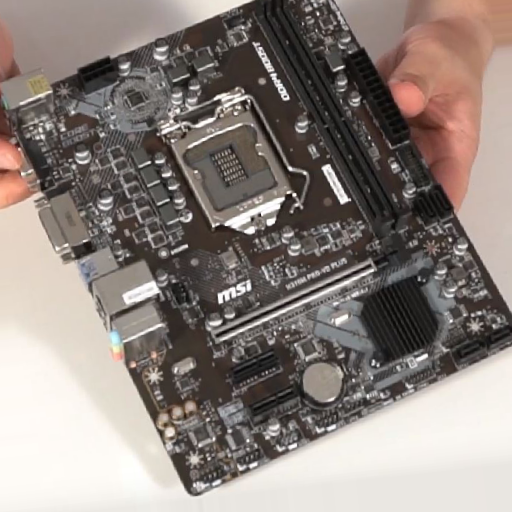CPU: (156, 87, 295, 233)
GPU: (211, 238, 412, 344)
MOTHERBOARD: (11, 1, 508, 492)
RAM: (252, 1, 412, 234)
